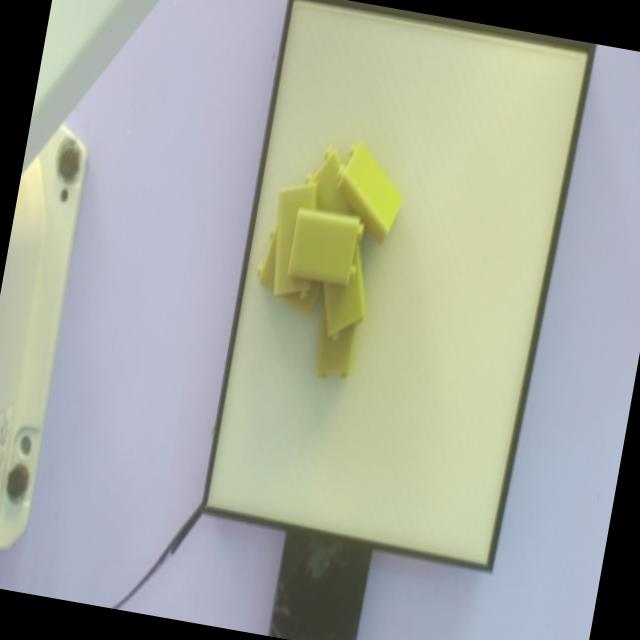bateria: (287, 207, 364, 288)
mesa: (200, 0, 597, 571)
